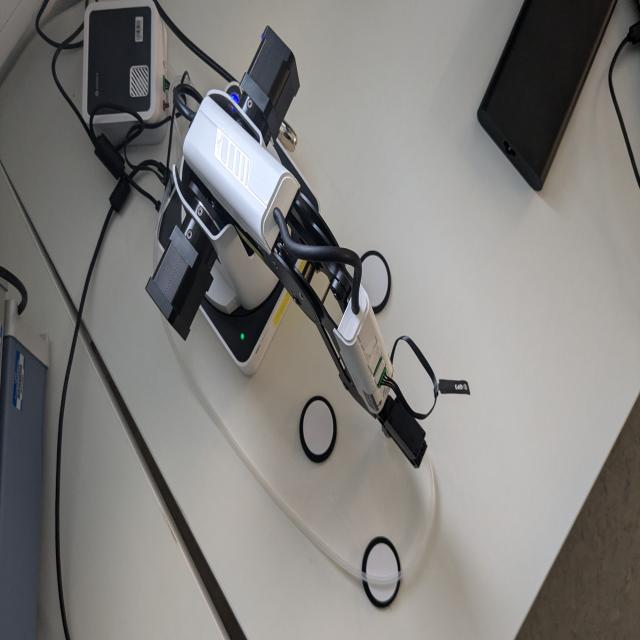Robot-end-effector-HF8z: (379, 393, 434, 474)
